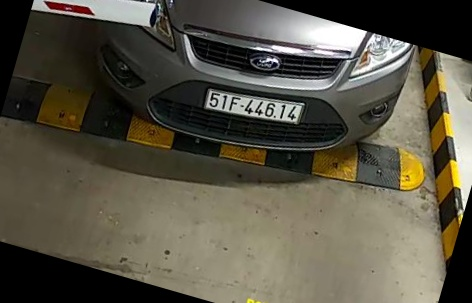plate: (200, 83, 305, 128)
